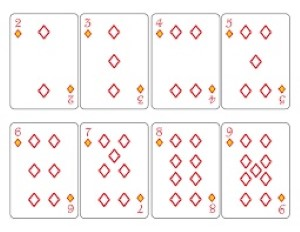NineOfDiamonds: (220, 120, 291, 219)
